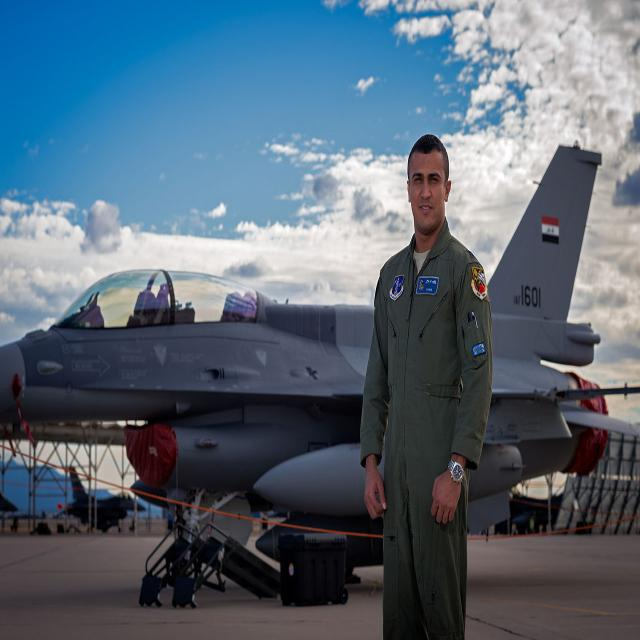MIL_Plane: (0, 141, 640, 587), (52, 464, 148, 534)
